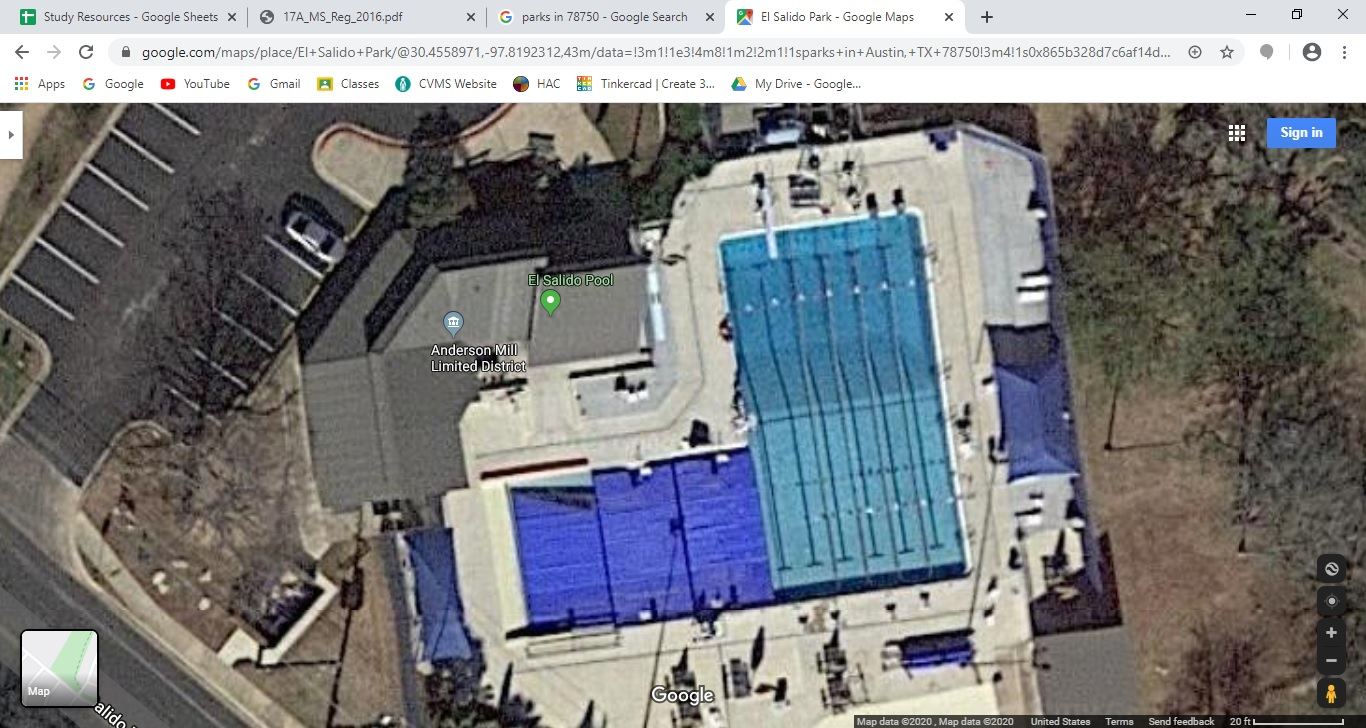pool: (751, 217, 985, 597), (495, 470, 774, 621)
